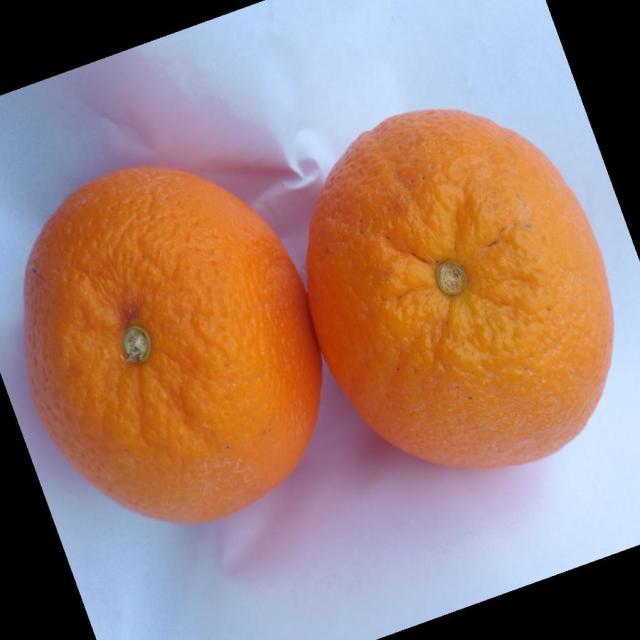fresh orange: (305, 107, 614, 470), (22, 163, 322, 524)
